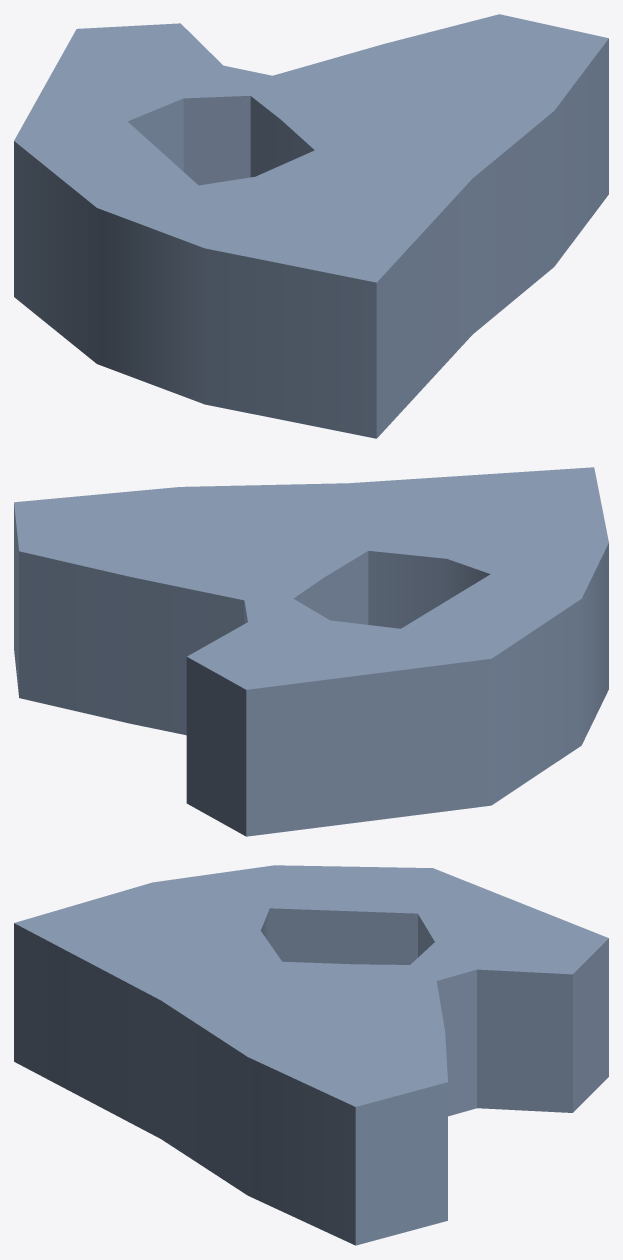
Rendered from newtaipei.glb.
3 renders of one model, top to bottom at view 1: azimuth 30°, elevation 25°; view 2: azimuth 150°, elevation 25°; view 3: azimuth 270°, elevation 25°, orthographic. The views are drawn at different scales.
Parts seen in each view (by area): view 1: map_geo Newtaipei_geo; view 2: map_geo Newtaipei_geo; view 3: map_geo Newtaipei_geo.
Part boxes in pixels (<box>): map_geo Newtaipei_geo: <box>14,14,608,438</box>; map_geo Newtaipei_geo: <box>14,467,608,836</box>; map_geo Newtaipei_geo: <box>14,865,608,1245</box>.
Size of the model in its own units: 1.04 by 0.2781 by 1.08.
Materials: 1 (1 with a texture image).
